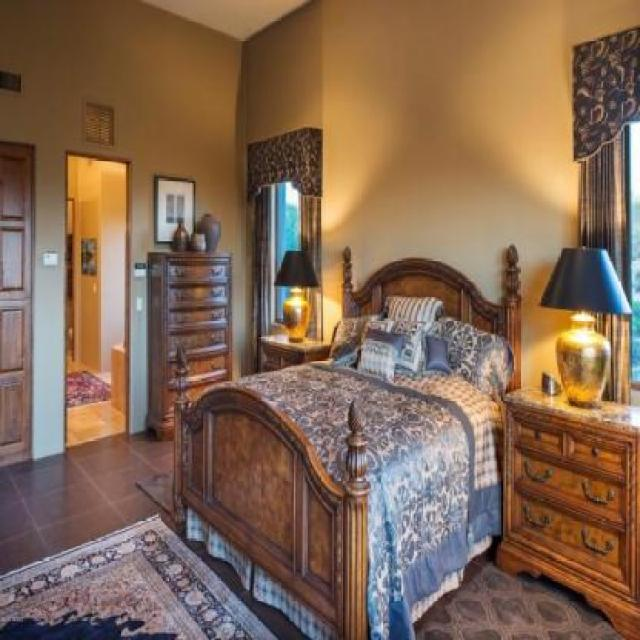floor: (0, 430, 330, 640), (415, 552, 629, 640)
